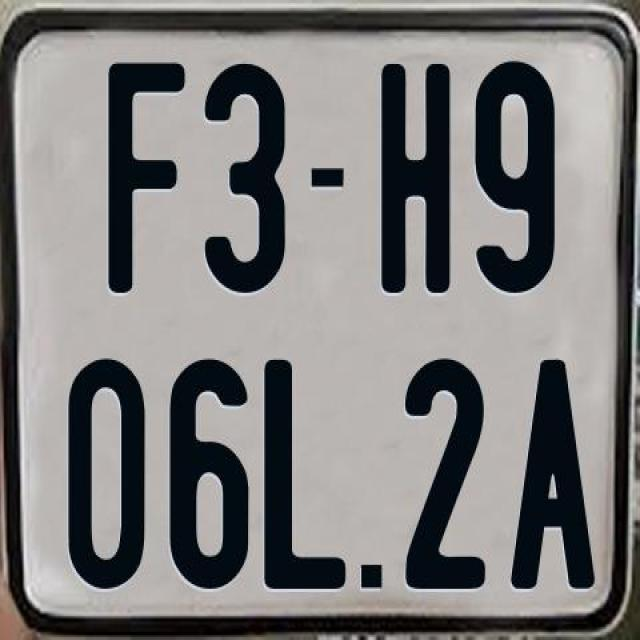0: (65, 355, 147, 587)
2: (402, 357, 482, 596)
3: (202, 59, 290, 290)
6: (166, 357, 252, 587)
9: (471, 58, 558, 299)
A: (510, 357, 600, 586)
F: (108, 61, 190, 301)
H: (382, 62, 454, 301)
L: (260, 358, 342, 589)
